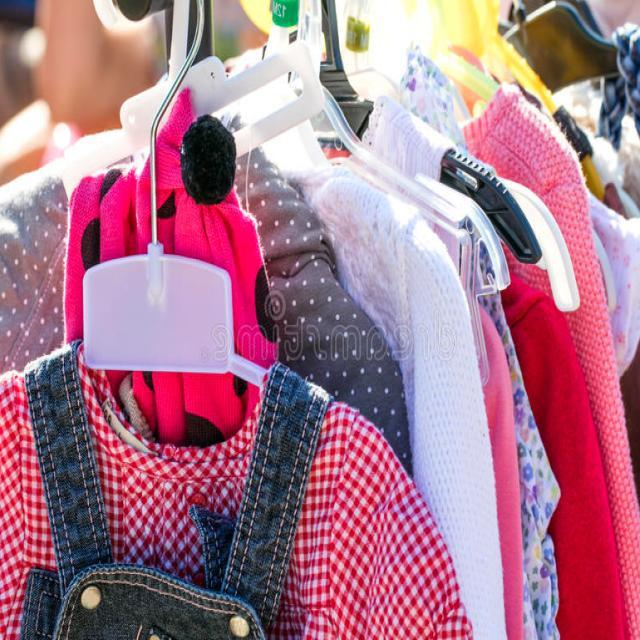clothes: (256, 202, 586, 632)
